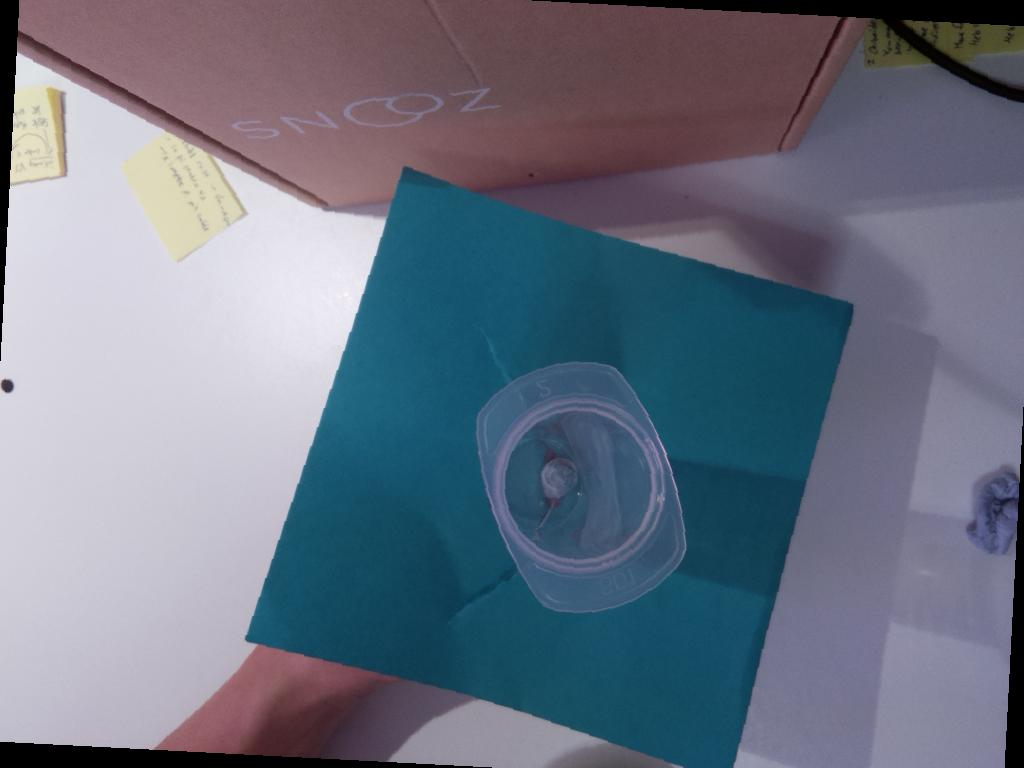clean: (474, 359, 689, 614)
